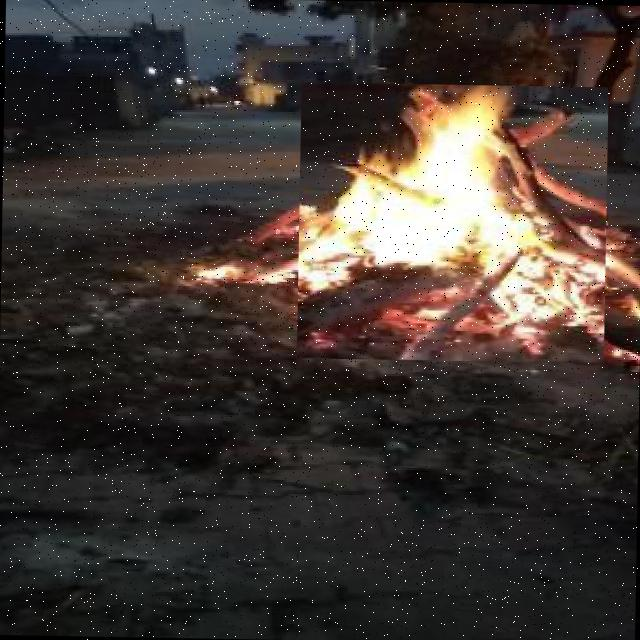fire: (296, 82, 608, 363)
